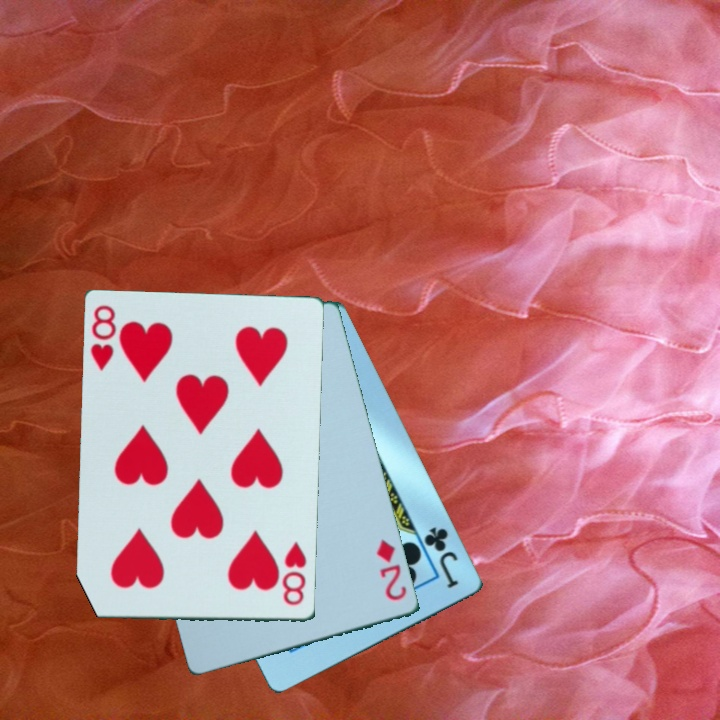2d: (373, 536, 410, 604)
8h: (87, 302, 119, 374), (279, 539, 310, 609)
Jc: (421, 523, 462, 592)
